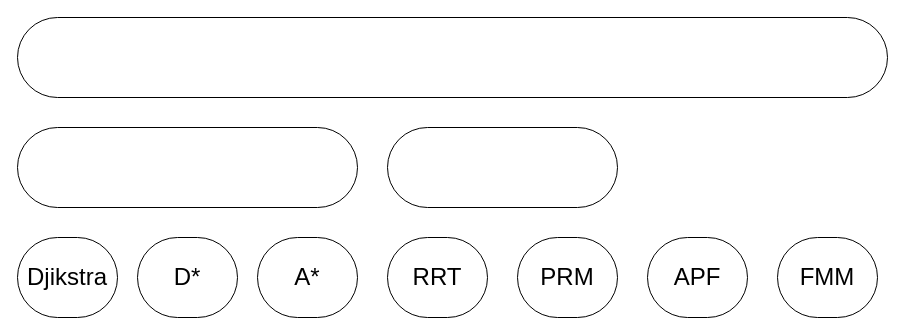
The diagram is 905 pixels wide and 335 high, and some of its shapes have lost their labels. Each missing label, with the box of its shape:
Decomposition Based: (16, 126, 358, 208)
Motion Planning algorithms: (16, 16, 888, 98)
Sampling Based: (386, 126, 618, 208)
